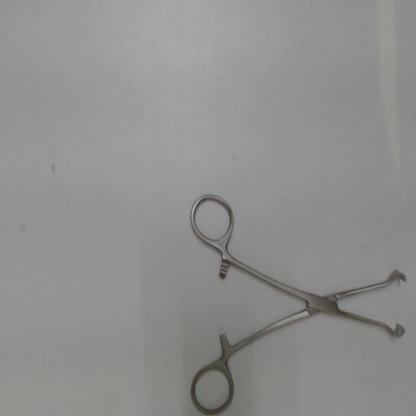Babcock Tissue Forceps: (182, 186, 412, 414)
